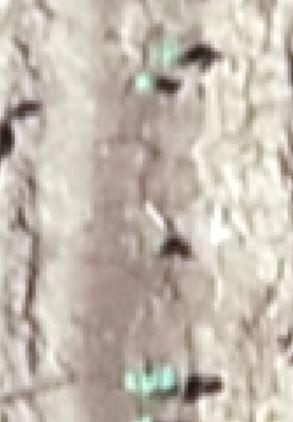cotton: (127, 367, 176, 398), (157, 42, 178, 65), (135, 73, 156, 90)
